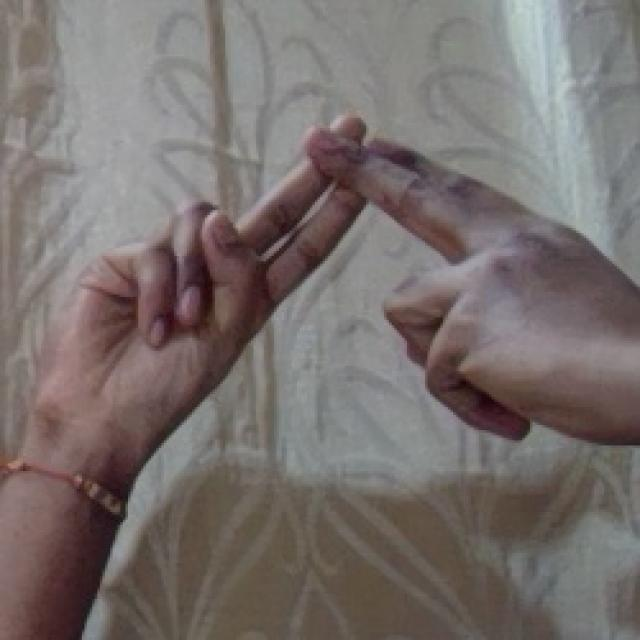Alphabet-F: (51, 115, 636, 471)
